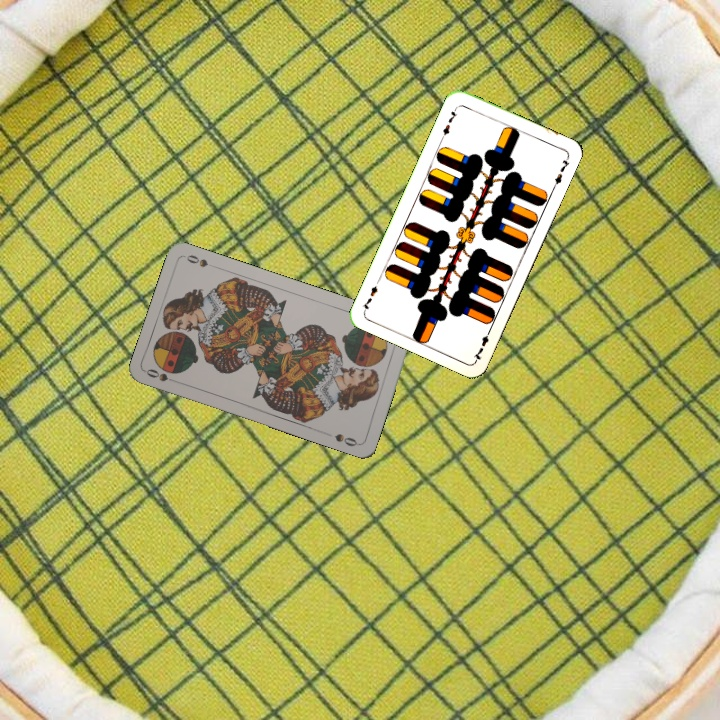E7: (469, 325, 494, 363), (438, 103, 460, 142)
SO: (142, 365, 182, 386)
